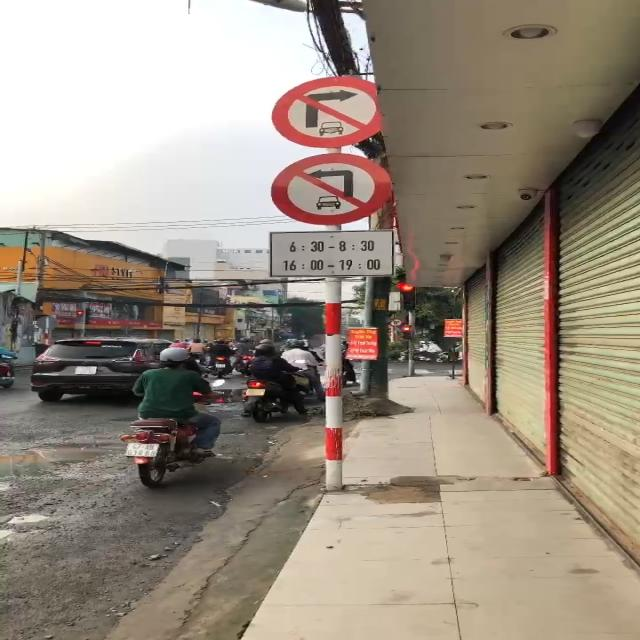Bien bao cam xe o to re phai: (263, 73, 386, 151)
Bien bao cam xe o to re trai: (258, 147, 405, 230)
